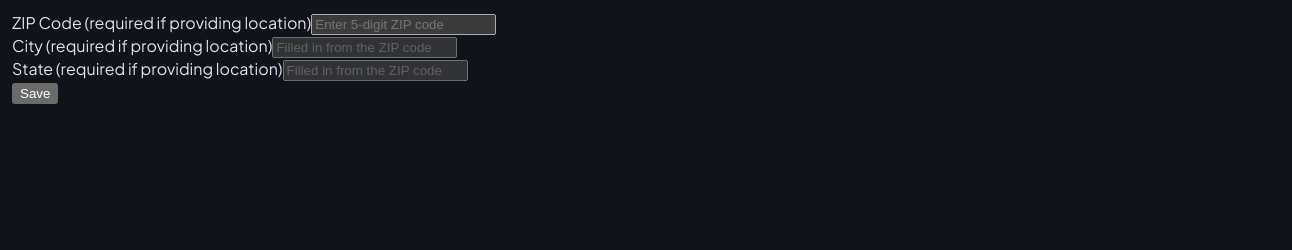
Test: LocationFields › tries the lookup again after the service was down
The image size is (1292, 250).
Type "27601" into the field labelled "ZIP Code (required if providing location)".
click(404, 24); type("27601")  # box [311,14,496,35]
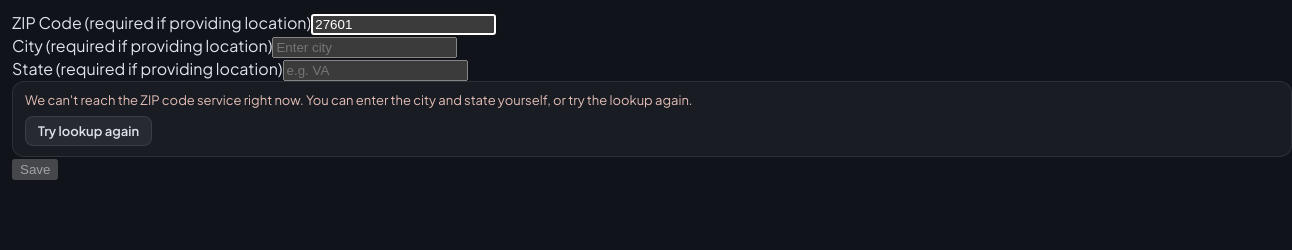
Click the button "Try lookup again".
click(88, 131)  # box [25,116,152,146]
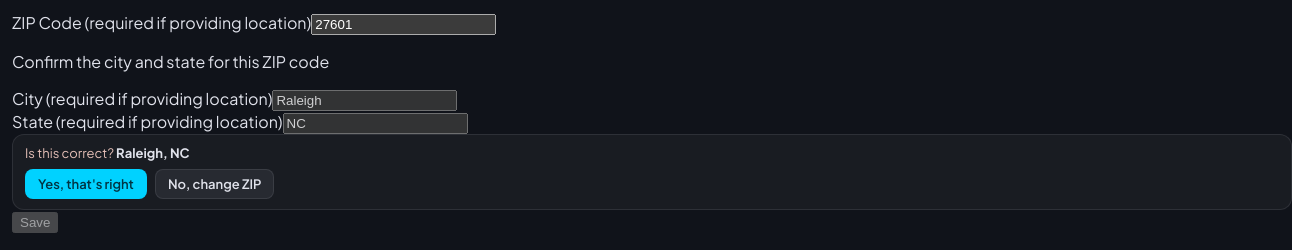
Expected: the text "Raleigh, NC" is shown, [116,145,190,161]
Expected: the field labelled "City (required if providing location)" holds "Raleigh", [272,90,457,111]
